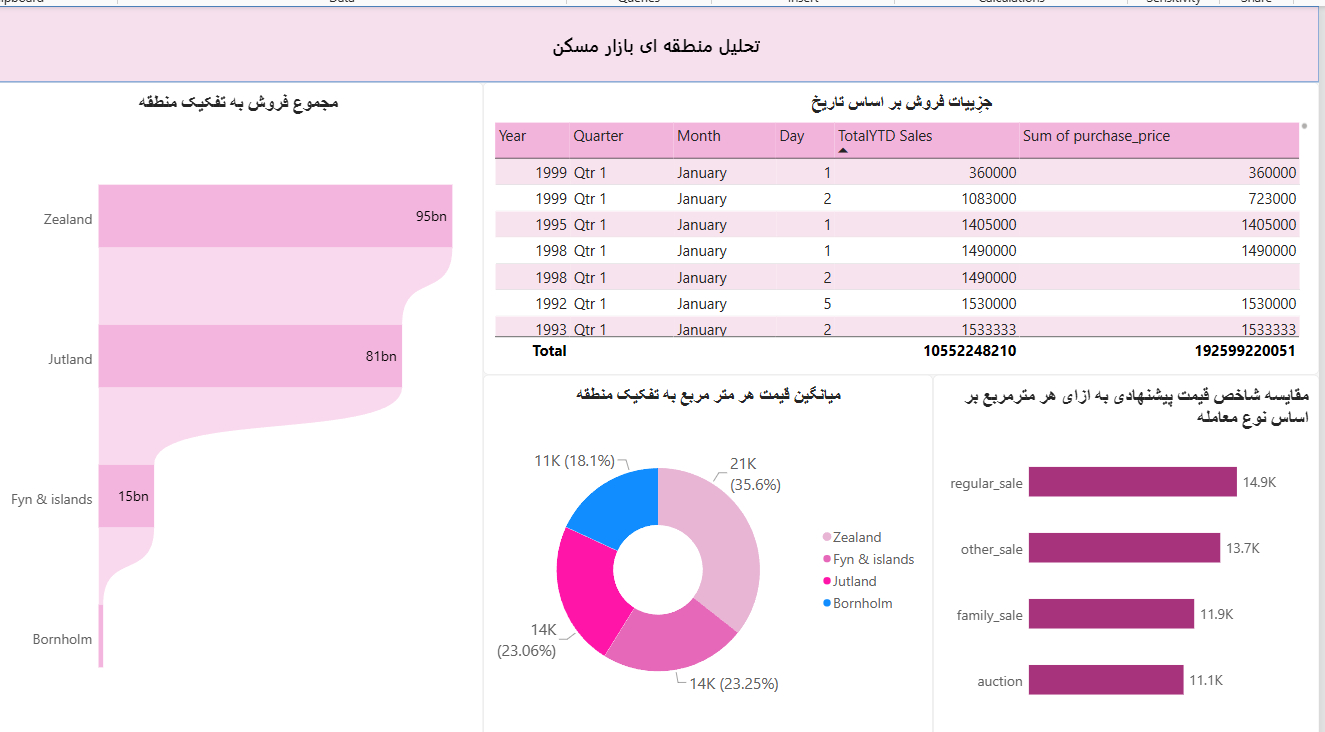

Layout of this report page (visuals, bound fields, positions):
{"tool":"powerbi","page":{"name":"page2","canvas":[1920,1080],"ordinal":1},"visuals":[{"type":"donutChart","title":"میانگین قیمت هر متر مربع به تفکیک منطقه ","fields":{"Category":["Housing.region"],"Y":["measures (2).Average Price SQM"]},"box":[709.4,533.8,651.5,523],"z":0},{"type":"clusteredBarChart","title":"مقایسه شاخص قیمت پیشنهادی به ازای هر مترمربع بر اساس نوع معامله","fields":{"Category":["Housing.sales_type"],"Y":["Housing.Offer to SQM Ration"]},"box":[1360.9,533.8,559.2,523],"z":1000},{"type":"tableEx","title":"جزِییات فروش بر اساس تاریخ ","fields":{"Values":["Housing.date.Variation.Date Hierarchy.Year","Housing.date.Variation.Date Hierarchy.Quarter","Housing.date.Variation.Date Hierarchy.Month","Housing.date.Variation.Date Hierarchy.Day","Housing.TotalYTD Sales","Sum(Housing.purchase_price)"]},"box":[709.4,110.4,1210.7,423.5],"z":2000},{"type":"barChart","title":"مجموع فروش به تفکیک منطقه ","fields":{"Category":["Housing.region"],"Y":["Housing.Sales by Region"]},"box":[0,110.4,709.4,955.5],"z":3000},{"type":"shape","box":[0,0,1920.1,110.4],"z":3001}]}

Visuals, with their boxes on the page's 1920x1080 design canvas (x1, y1, x2, y2). These are canvas units, not pixel positions in the 1325x732 screenshot, which may show the page scaled, cropped or inside an application window:
"میانگین قیمت هر متر مربع به تفکیک منطقه " donutChart: (709, 534, 1361, 1057)
"مقایسه شاخص قیمت پیشنهادی به ازای هر مترمربع بر اساس نوع معامله" clusteredBarChart: (1361, 534, 1920, 1057)
"جزِییات فروش بر اساس تاریخ " tableEx: (709, 110, 1920, 534)
"مجموع فروش به تفکیک منطقه " barChart: (0, 110, 709, 1066)
shape: (0, 0, 1920, 110)
